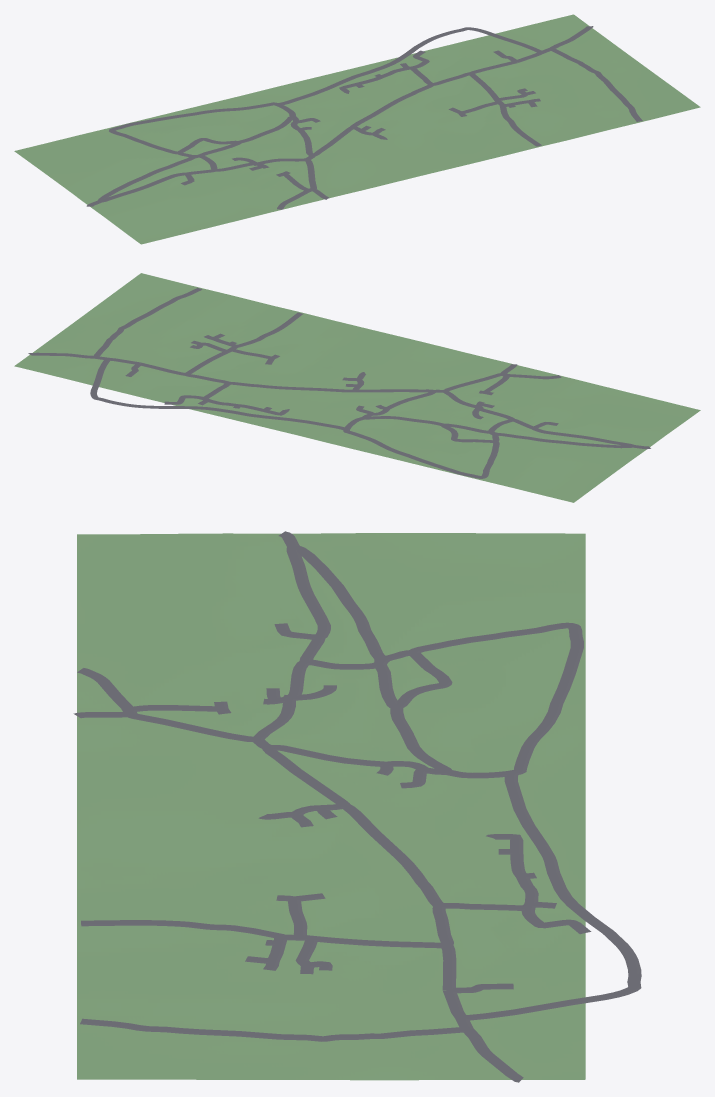
Rendered from map-2.glb.
3 renders of one model, top to bottom at view 1: azimuth 30°, elevation 25°; view 2: azimuth 150°, elevation 25°; view 3: azimuth 270°, elevation 25°, orthographic. The views are drawn at different scales.
Parts seen in each view (by area): view 1: terrain, roads-tarmac; view 2: terrain, roads-tarmac; view 3: terrain, roads-tarmac.
Part boxes in pixels (x1,y1,x2,y2): terrain: (14,14,700,244); roads-tarmac: (86,26,642,209); terrain: (14,273,700,502); roads-tarmac: (28,288,650,478); terrain: (77,533,585,1080); roads-tarmac: (73,531,641,1082).
Size of the model in its own units: 1969 by 2.54 by 858.
